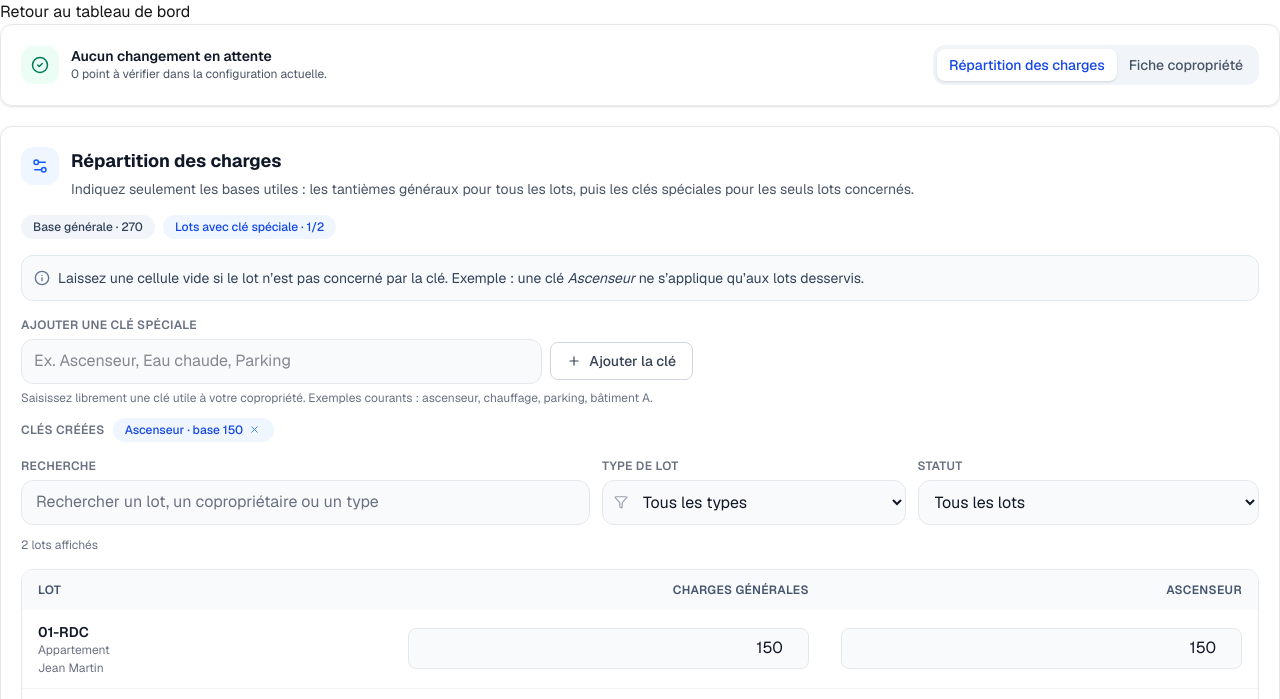
Test case: CoproSettingsPanel › refuse d’enregistrer une clé spéciale tant qu’aucun lot n’a de base affectée
This screenshot has width=1280, height=699.
Step 1. Type "Parking" into the field labelled "Ajouter une clé spéciale Ajouter la clé" → (282, 361), box [21,339,542,384]
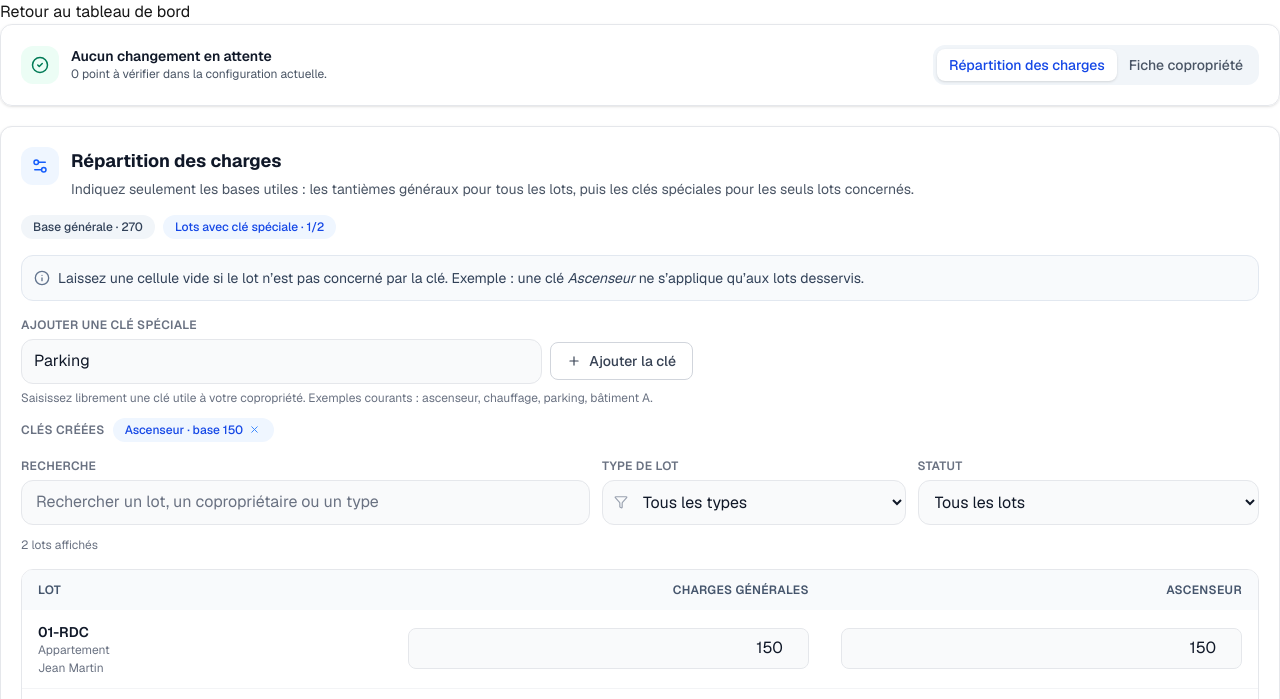
Step 2. Click the button "Ajouter la clé" → click(622, 361), box [550,342,693,380]
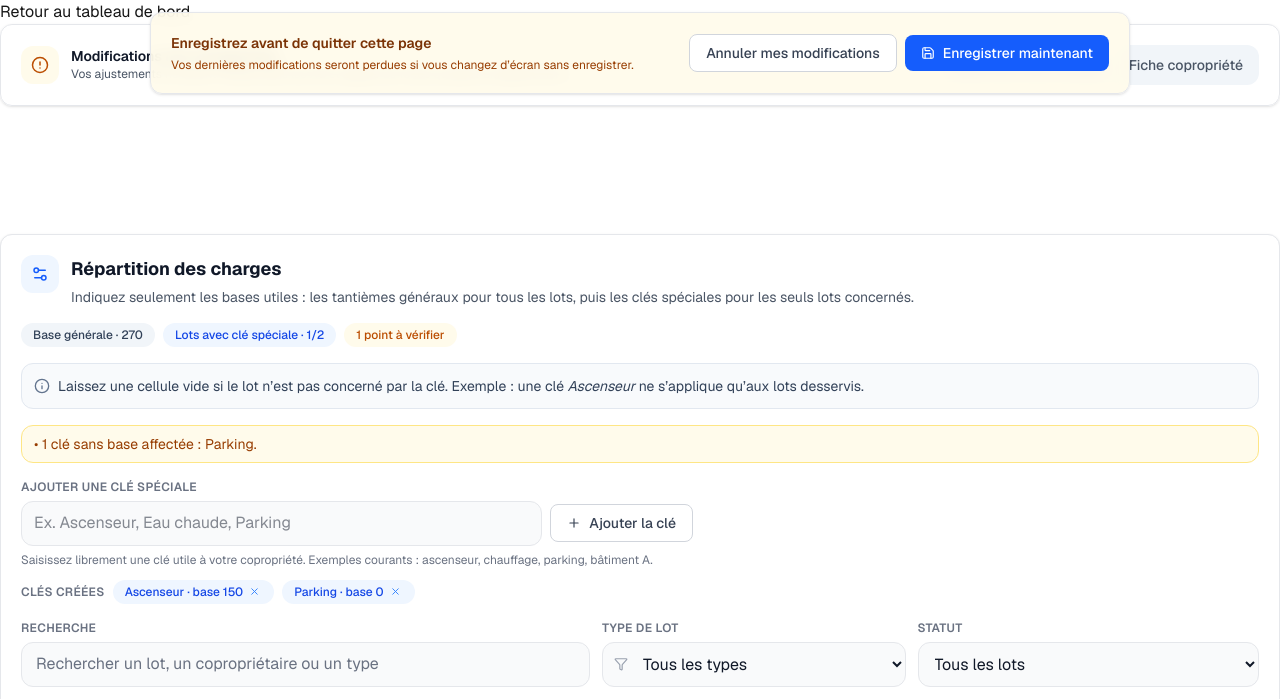
Step 3. Click the button "Enregistrer maintenant" → click(1007, 53), box [905,35,1109,71]
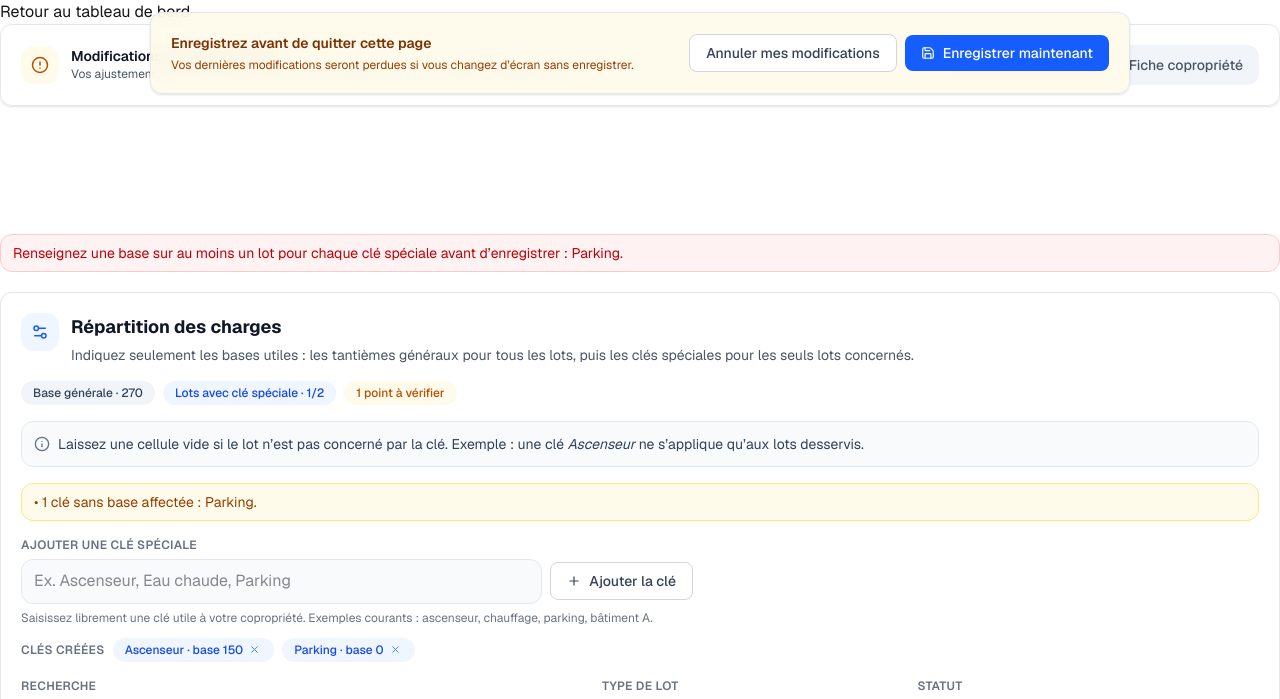
Expected: the text "Renseignez une base sur au moins un lot pour chaque clé spéciale" is shown, [13,244,623,262]
